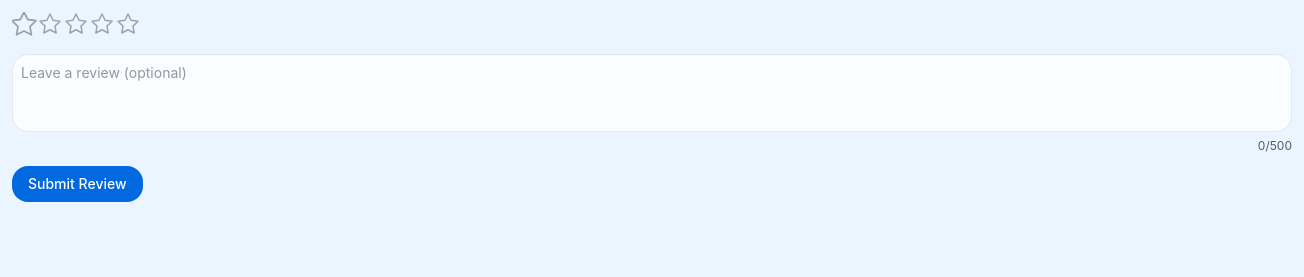
ReviewForm › submits correctly with star rating and text
The width and height of the screenshot is (1304, 277).
# Select 4 stars
Step 1. Click the 4th button → (102, 24), box [90,12,114,36]
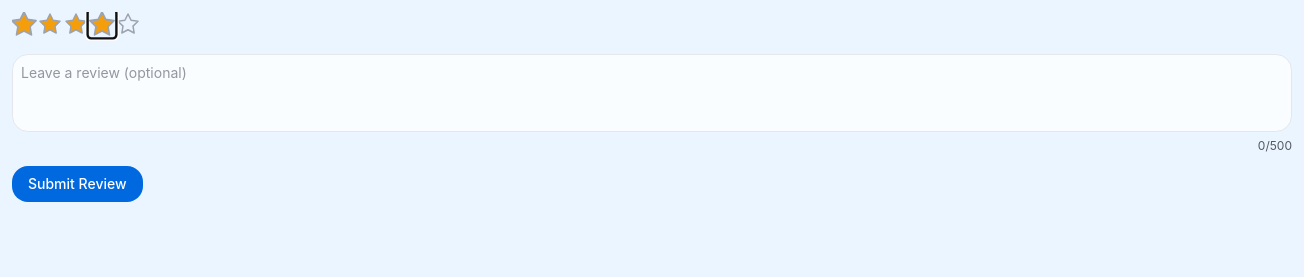
# Type review text
Step 2. Type "Great work!" into the text box with placeholder "Leave a review (optional)" → (652, 93), box [12,54,1292,132]
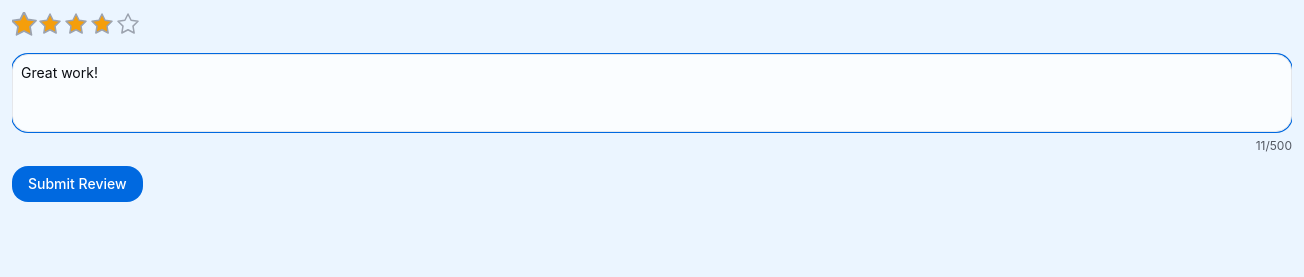
Step 3. Click the button "Submit Review" → (77, 184), box [12,166,143,202]
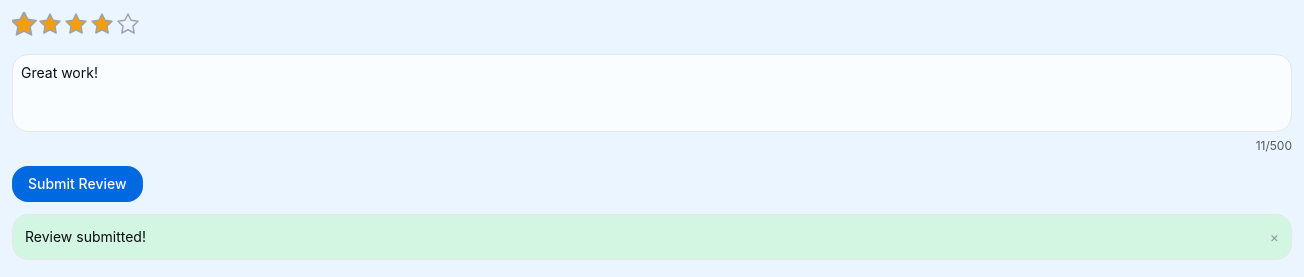
Now the text "Review submitted!" is shown, box [25,227,146,247]
